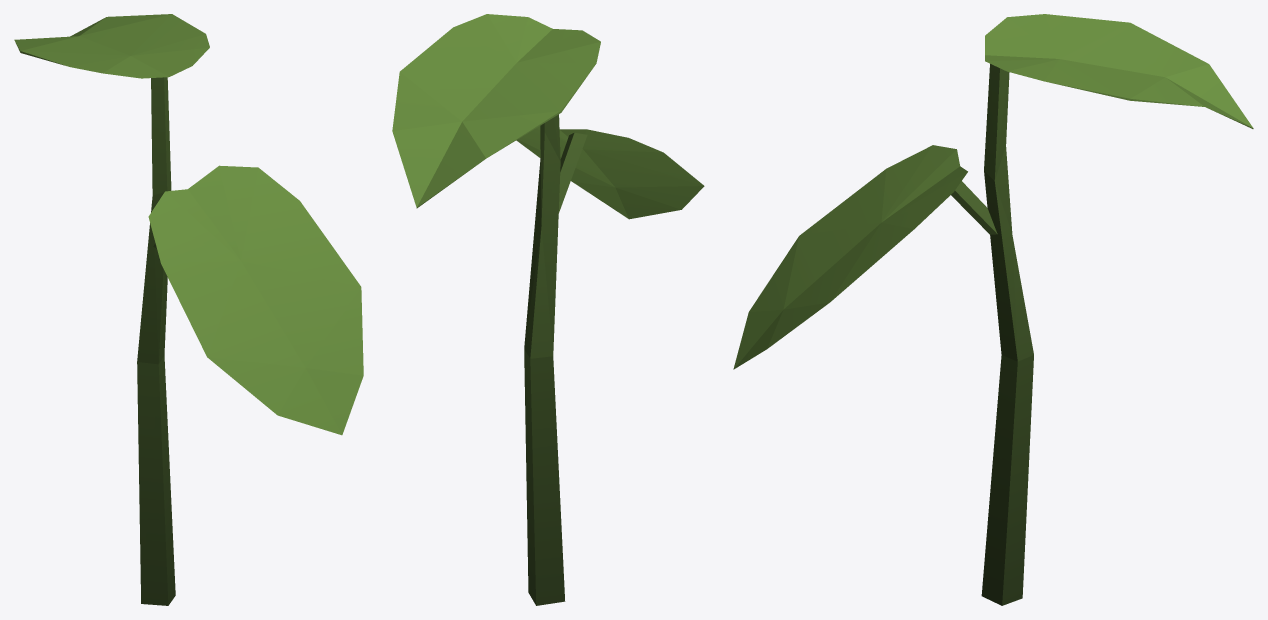
The model's file is Crop_Potato_STAGE_1_01.obj.
3 views of the same model, side by side, from view 1: azimuth 30°, elevation 25°; view 2: azimuth 150°, elevation 25°; view 3: azimuth 270°, elevation 25° (orthographic). The views are drawn at different scales.
Parts seen in each view (by area): view 1: Crop_Potato_STAGE_1_01; view 2: Crop_Potato_STAGE_1_01; view 3: Crop_Potato_STAGE_1_01.
Part boxes in pixels (box(x1,y1,x2,y2)): Crop_Potato_STAGE_1_01: box(14, 14, 363, 605); Crop_Potato_STAGE_1_01: box(392, 14, 704, 605); Crop_Potato_STAGE_1_01: box(733, 14, 1253, 605).
Bounding box in the file's own units: 0.113 × 0.2977 × 0.2533.
1 material, 1 textured.
